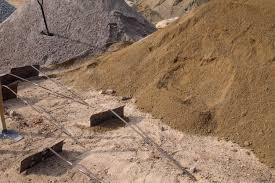sand: (213, 21, 241, 46), (235, 95, 256, 113), (181, 32, 201, 49), (192, 70, 208, 83)
